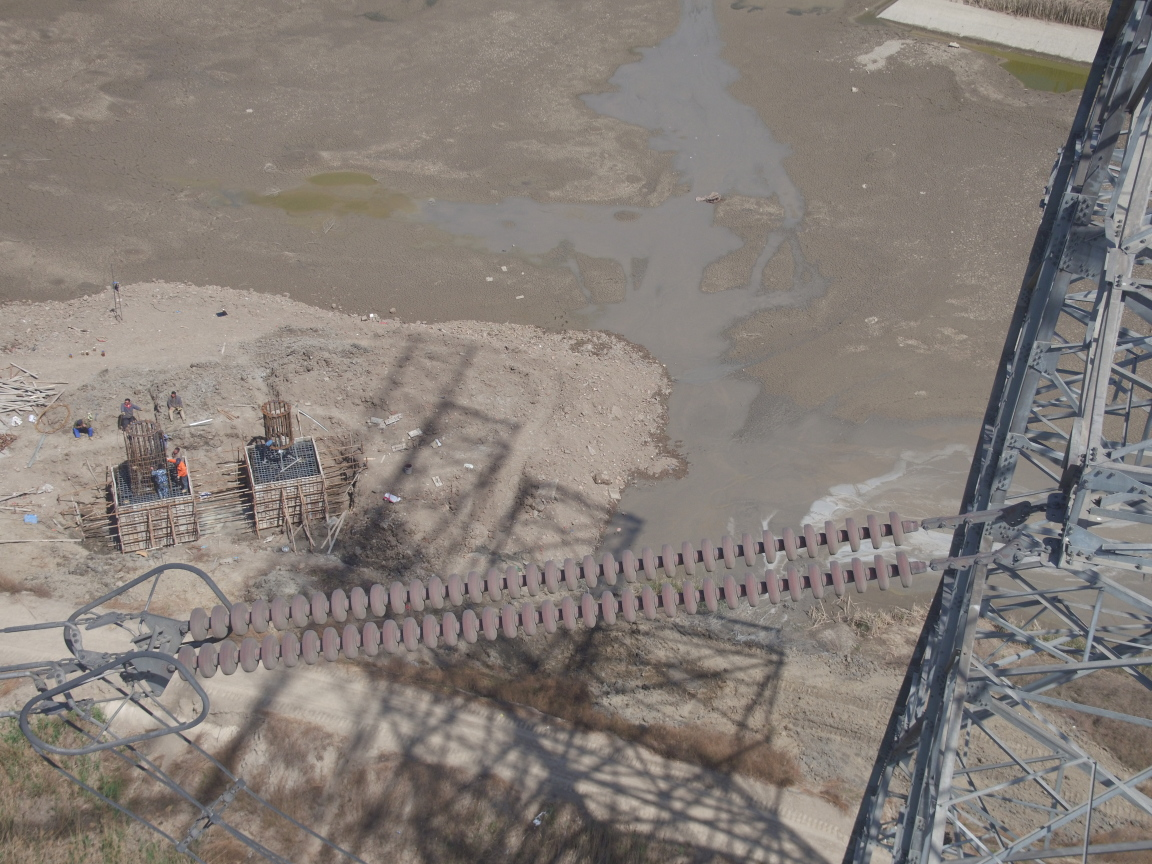insulator: (158, 501, 987, 688)
